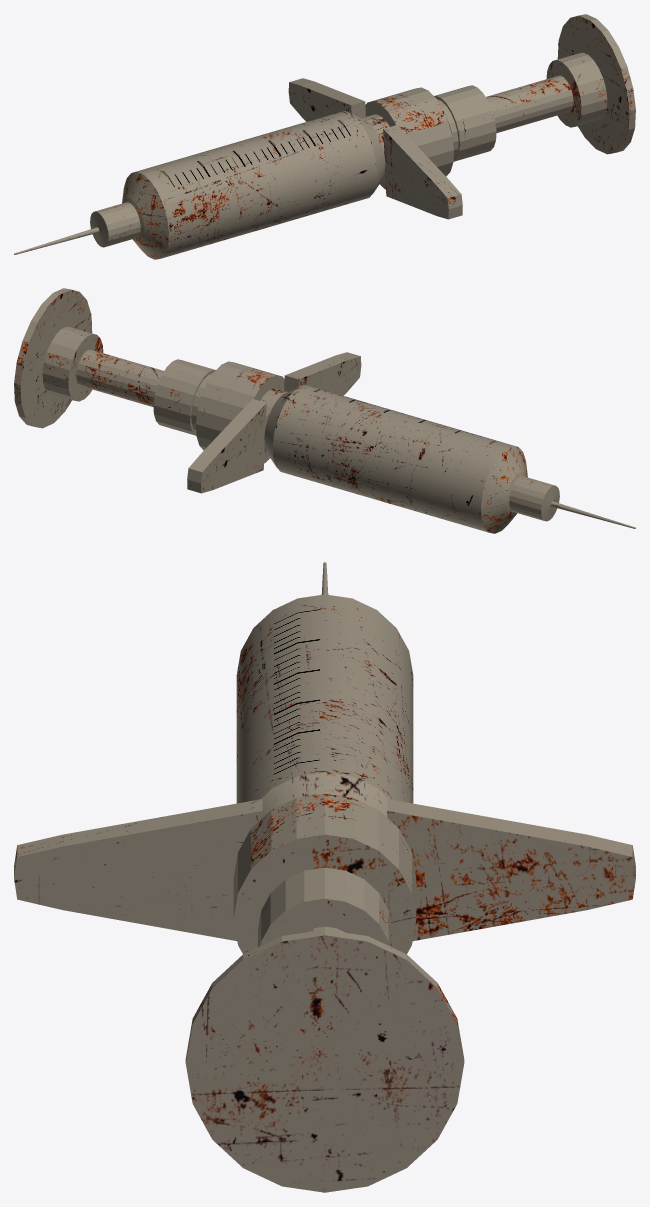
Rendered from SeringaRE1.fbx.
3 views of the same model, one above another, from view 1: azimuth 30°, elevation 25°; view 2: azimuth 150°, elevation 25°; view 3: azimuth 270°, elevation 25° (orthographic). The views are drawn at different scales.
Parts seen in each view (by area): view 1: Seringa1; view 2: Seringa1; view 3: Seringa1.
Part boxes in pixels (x1,y1,x2,y2): Seringa1: [14, 14, 635, 259]; Seringa1: [14, 288, 635, 533]; Seringa1: [14, 562, 635, 1192].
Size of the model in its own units: 14.91 by 3.15 by 7.03.
1 material, 1 textured.
